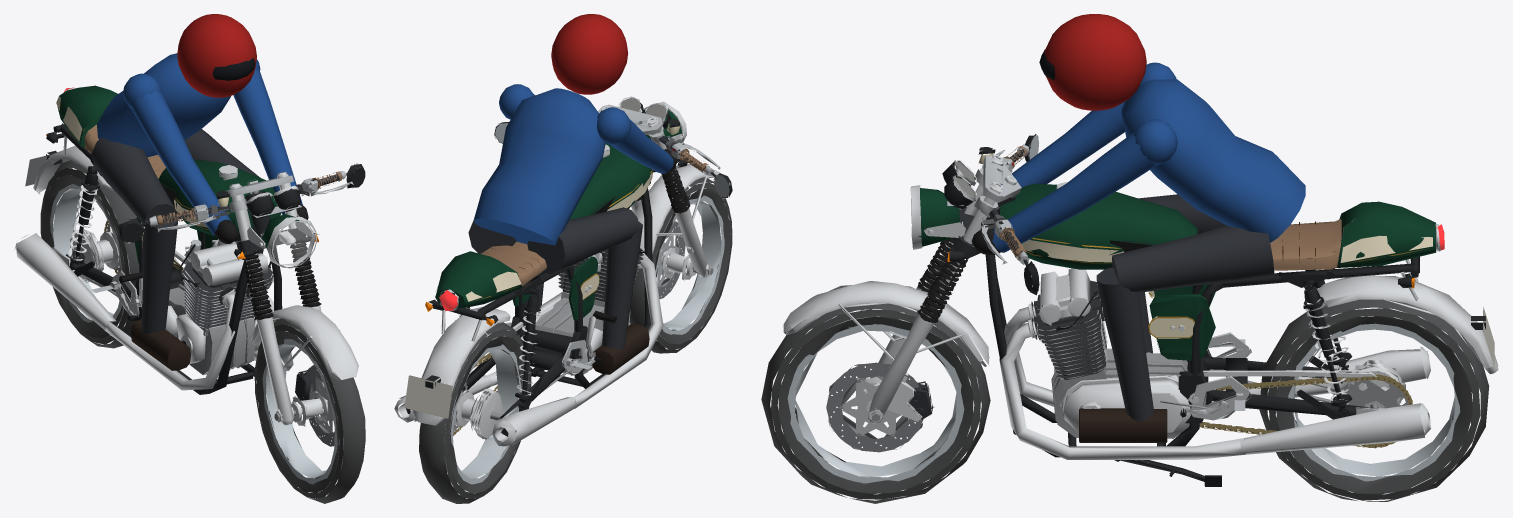
The model's file is vb_cafe_racer.glb.
The picture shows the model from 3 angles, left to right: view 1: azimuth 30°, elevation 25°; view 2: azimuth 150°, elevation 25°; view 3: azimuth 270°, elevation 25°; orthographic projection. The views are drawn at different scales.
Visible parts, largest first — view 1: body, fork, rider_torso, wheel_front, rider_legs, wheel_rear, rider_head; view 2: body, rider_torso, wheel_rear, rider_legs, wheel_front, fork, rider_head; view 3: body, rider_torso, wheel_front, wheel_rear, fork, rider_legs, rider_head.
Boxes of the visible parts, x1,y1,x2,y2 form: body: [14, 85, 293, 394]; fork: [118, 163, 365, 425]; rider_torso: [97, 53, 308, 243]; wheel_front: [254, 318, 365, 503]; rider_legs: [91, 129, 263, 370]; wheel_rear: [40, 160, 139, 348]; rider_head: [177, 14, 256, 97]; body: [394, 143, 663, 446]; rider_torso: [474, 84, 677, 245]; wheel_rear: [419, 322, 531, 503]; rider_legs: [468, 207, 649, 374]; wheel_front: [630, 177, 732, 353]; fork: [494, 96, 732, 277]; rider_head: [551, 14, 628, 94]; body: [981, 182, 1498, 486]; rider_torso: [971, 62, 1305, 254]; wheel_front: [761, 303, 990, 503]; wheel_rear: [1259, 299, 1489, 501]; fork: [782, 134, 1039, 423]; rider_legs: [1079, 194, 1274, 442]; rider_head: [1039, 14, 1146, 110].
Size of the model in its own units: 0.9478 by 1.51 by 2.09.
